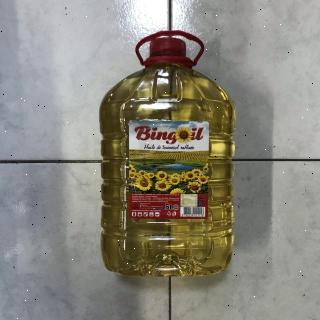Plastic-bottle: (98, 28, 242, 288)
